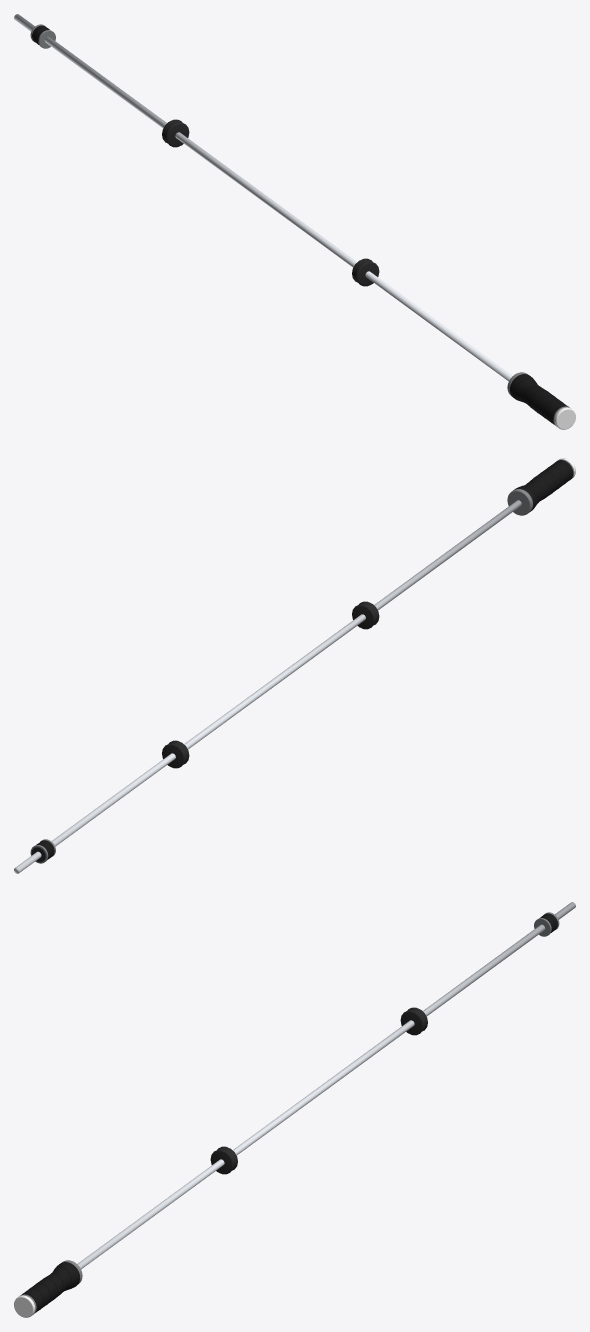
The model's file is fuzeball_rod_1man.glb.
The picture shows the model from 3 angles, top to bottom: view 1: azimuth 30°, elevation 25°; view 2: azimuth 150°, elevation 25°; view 3: azimuth 330°, elevation 25°; orthographic projection.
Parts seen in each view (by area): view 1: rod1_bar.002, rod1_handle_wrapped_grip, CylinderR, CylinderL; view 2: rod1_bar.002, rod1_handle_wrapped_grip, CylinderR, CylinderL; view 3: rod1_bar.002, rod1_handle_wrapped_grip, CylinderR, CylinderL.
Boxes of the visible parts, x1,y1,x2,y2 form: rod1_bar.002: [14, 14, 512, 381]; rod1_handle_wrapped_grip: [510, 374, 568, 424]; CylinderR: [162, 119, 189, 147]; CylinderL: [352, 258, 379, 286]; rod1_bar.002: [14, 500, 521, 873]; rod1_handle_wrapped_grip: [513, 460, 573, 511]; CylinderR: [162, 740, 189, 768]; CylinderL: [352, 601, 379, 629]; rod1_bar.002: [77, 902, 575, 1269]; rod1_handle_wrapped_grip: [21, 1262, 79, 1312]; CylinderR: [400, 1007, 427, 1035]; CylinderL: [210, 1146, 237, 1174].
Size of the model in its own units: 3.12 by 3.14 by 124.
6 materials, 2 textured.
